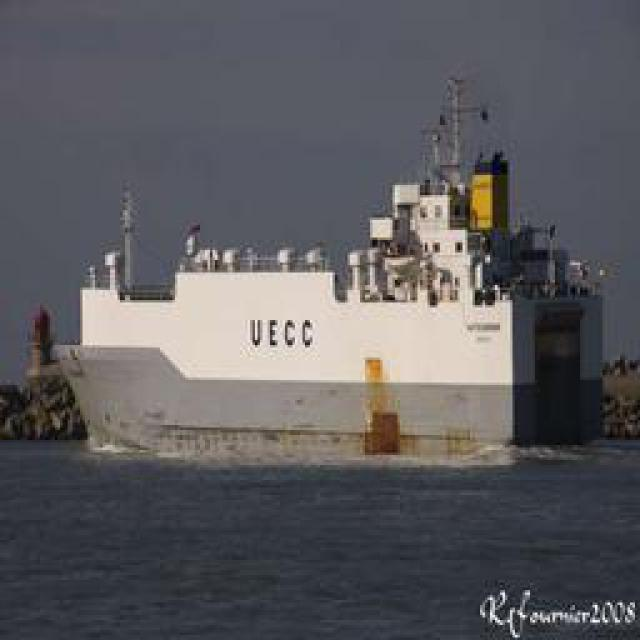Ship: (51, 123, 622, 480)
